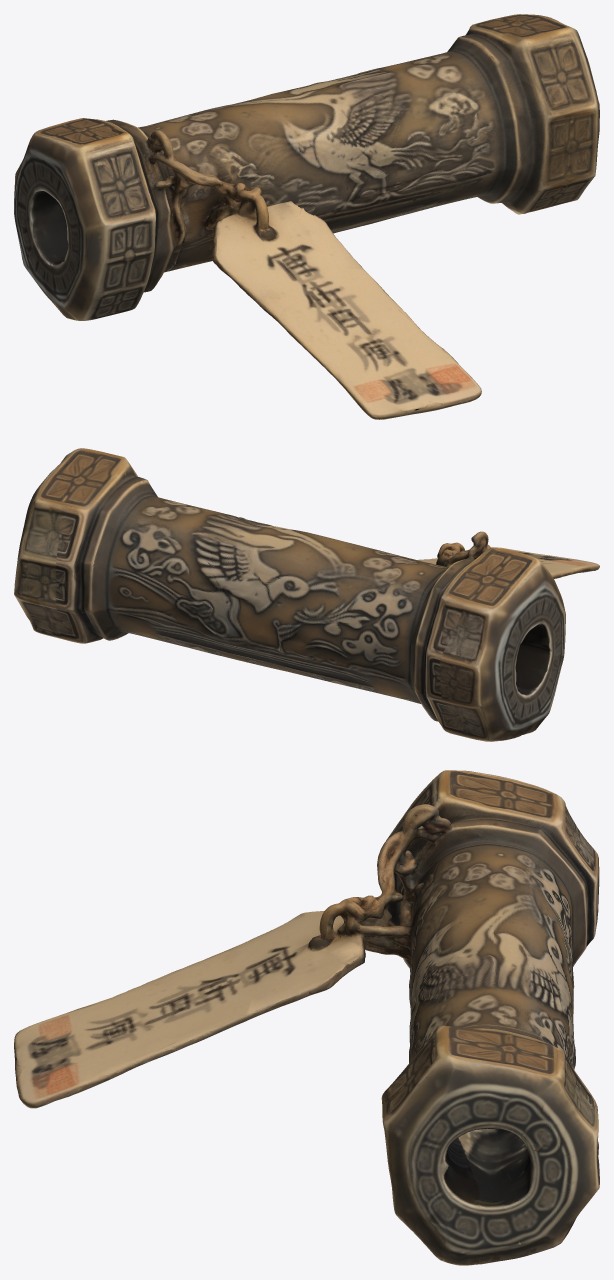
File: Meshy_AI_Imperial_Crane_Spygla_0822073419_texture.fbx
3 renders of one model, top to bottom at view 1: azimuth 30°, elevation 25°; view 2: azimuth 150°, elevation 25°; view 3: azimuth 270°, elevation 25°, orthographic. The views are drawn at different scales.
Parts seen in each view (by area): view 1: output_unwrapped; view 2: output_unwrapped; view 3: output_unwrapped.
Part boxes in pixels (box(x1,y1,x2,y2)): output_unwrapped: box(14, 14, 599, 419); output_unwrapped: box(14, 448, 599, 741); output_unwrapped: box(14, 770, 599, 1265).
Size of the model in its own units: 200 by 67.76 by 165.
1 material, 1 textured.
